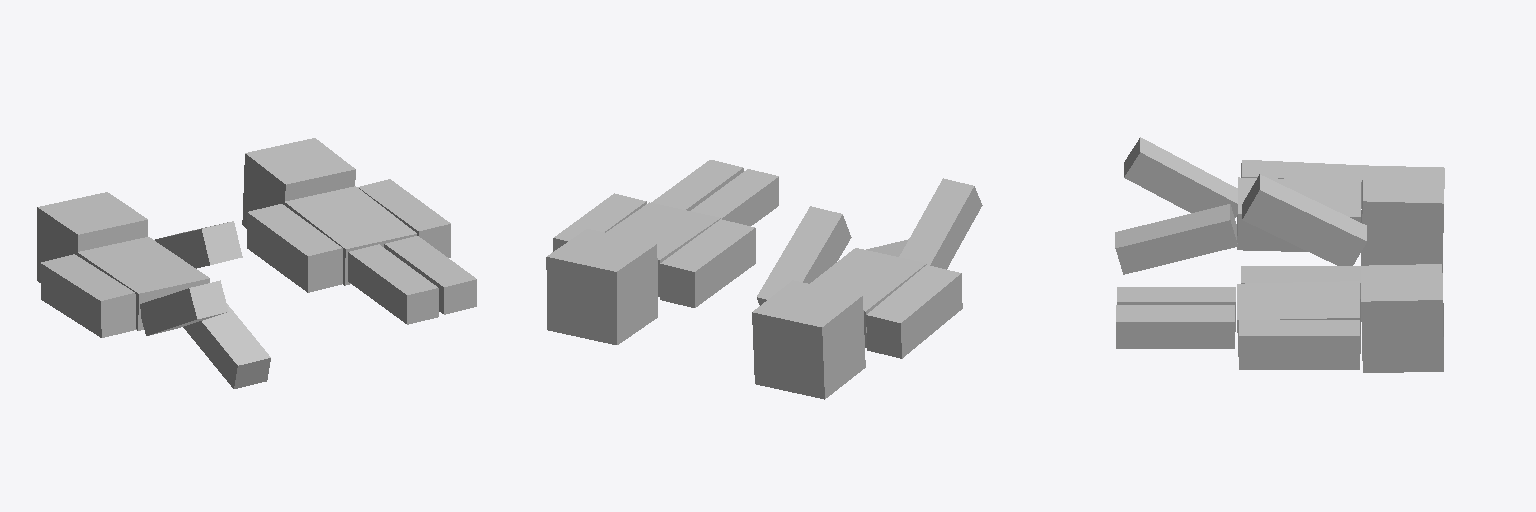
File: steve_000010.obj
The picture shows the model from 3 angles: view 1: azimuth 30°, elevation 25°; view 2: azimuth 150°, elevation 25°; view 3: azimuth 270°, elevation 25°; orthographic projection.
Visible parts, largest first — view 1: Cube.001_Cube.002, Cube_Cube.001; view 2: Cube_Cube.001, Cube.001_Cube.002; view 3: Cube_Cube.001, Cube.001_Cube.002.
Part boxes in pixels (left/top/right/bottom): Cube.001_Cube.002: left=242, top=138, right=476, bottom=324; Cube_Cube.001: left=37, top=192, right=270, bottom=388; Cube_Cube.001: left=752, top=178, right=982, bottom=399; Cube.001_Cube.002: left=546, top=160, right=778, bottom=344; Cube_Cube.001: left=1115, top=137, right=1444, bottom=274; Cube.001_Cube.002: left=1116, top=264, right=1443, bottom=372.
Size of the model in its own units: 6.55 by 1.88 by 5.35.